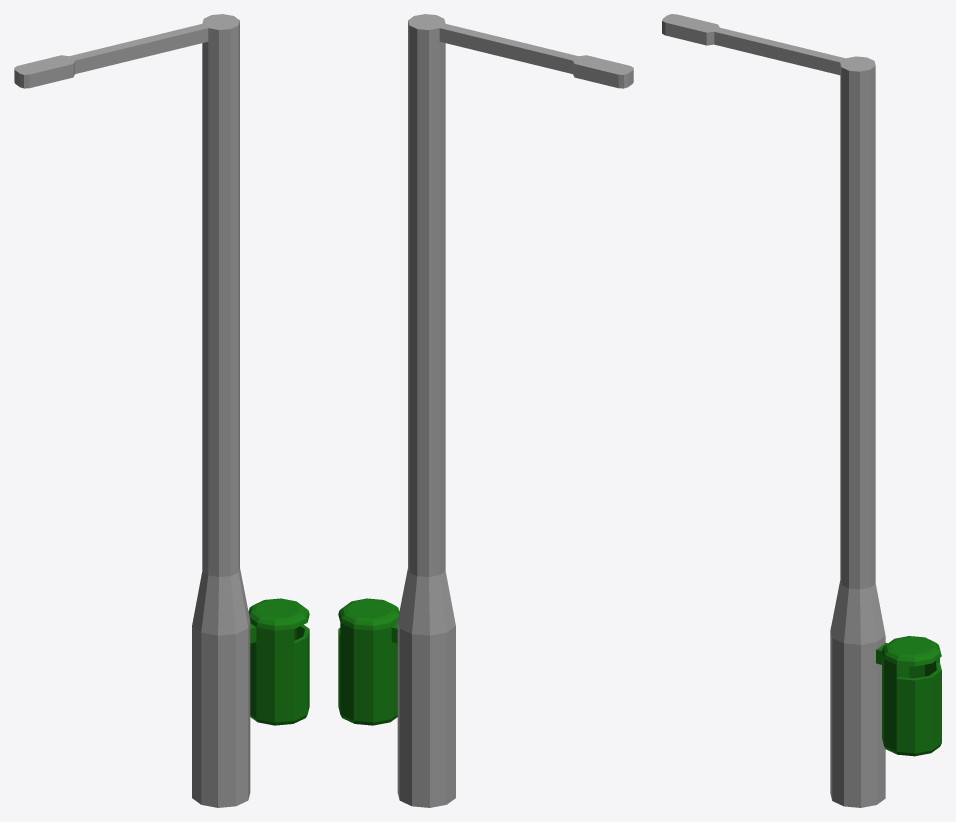
Rendered from LampaKos.fbx.
3 renders of one model, left to right at view 1: azimuth 30°, elevation 25°; view 2: azimuth 150°, elevation 25°; view 3: azimuth 330°, elevation 25°, orthographic. The views are drawn at different scales.
Parts seen in each view (by area): view 1: LampaKos; view 2: LampaKos; view 3: LampaKos.
Boxes of the visible parts, box(x1,y1,x2,y2) form: LampaKos: box(14, 14, 309, 807); LampaKos: box(338, 14, 633, 807); LampaKos: box(662, 14, 941, 807).
Size of the model in its own units: 68.87 by 177 by 13.43.
